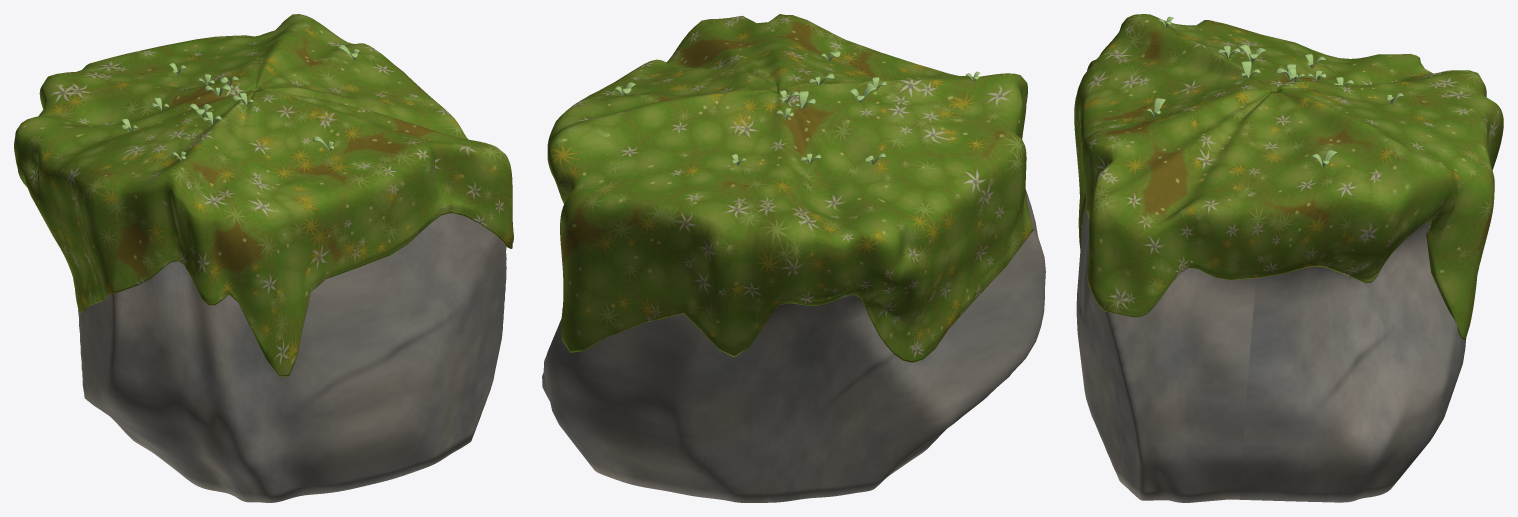
Rendered from SM_Valley_CreekBoulder_OffsetBluff.fbx.
3 renders of one model, left to right at view 1: azimuth 30°, elevation 25°; view 2: azimuth 150°, elevation 25°; view 3: azimuth 270°, elevation 25°, orthographic. The views are drawn at different scales.
Visible parts, largest first — view 1: SM_Valley_CreekBoulder_OffsetBluff; view 2: SM_Valley_CreekBoulder_OffsetBluff; view 3: SM_Valley_CreekBoulder_OffsetBluff.
Part boxes in pixels (x1,y1,x2,y2): SM_Valley_CreekBoulder_OffsetBluff: (14,14,513,502); SM_Valley_CreekBoulder_OffsetBluff: (542,14,1045,502); SM_Valley_CreekBoulder_OffsetBluff: (1074,14,1503,502).
Bounding box in the file's own units: 94.77 × 93.82 × 86.23.
3 materials, 2 textured.
